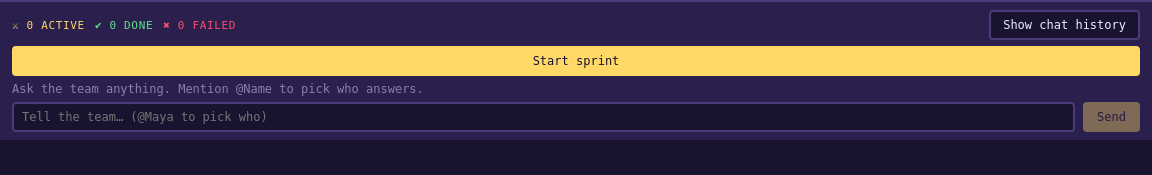
Scenario: Hud › fails the quest and says so when the run cannot start
This screenshot has width=1152, height=175.
Type "@Maya do it" into the field named "Chat" at (544, 117), box [12, 102, 1075, 132]
Then press Enter
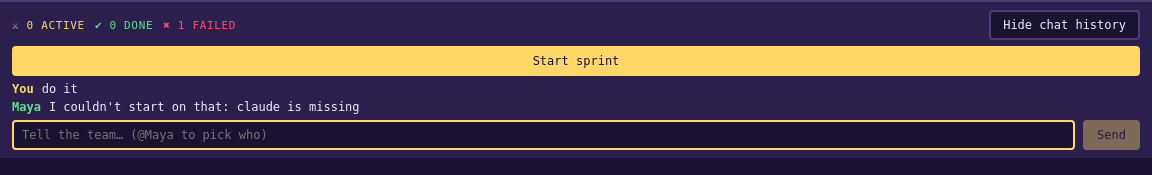
Check: the text "I couldn't start on that: claude is missing" is shown, box [49, 100, 360, 114]
Check: the element titled "1 failed" is shown, box [163, 18, 236, 32]
